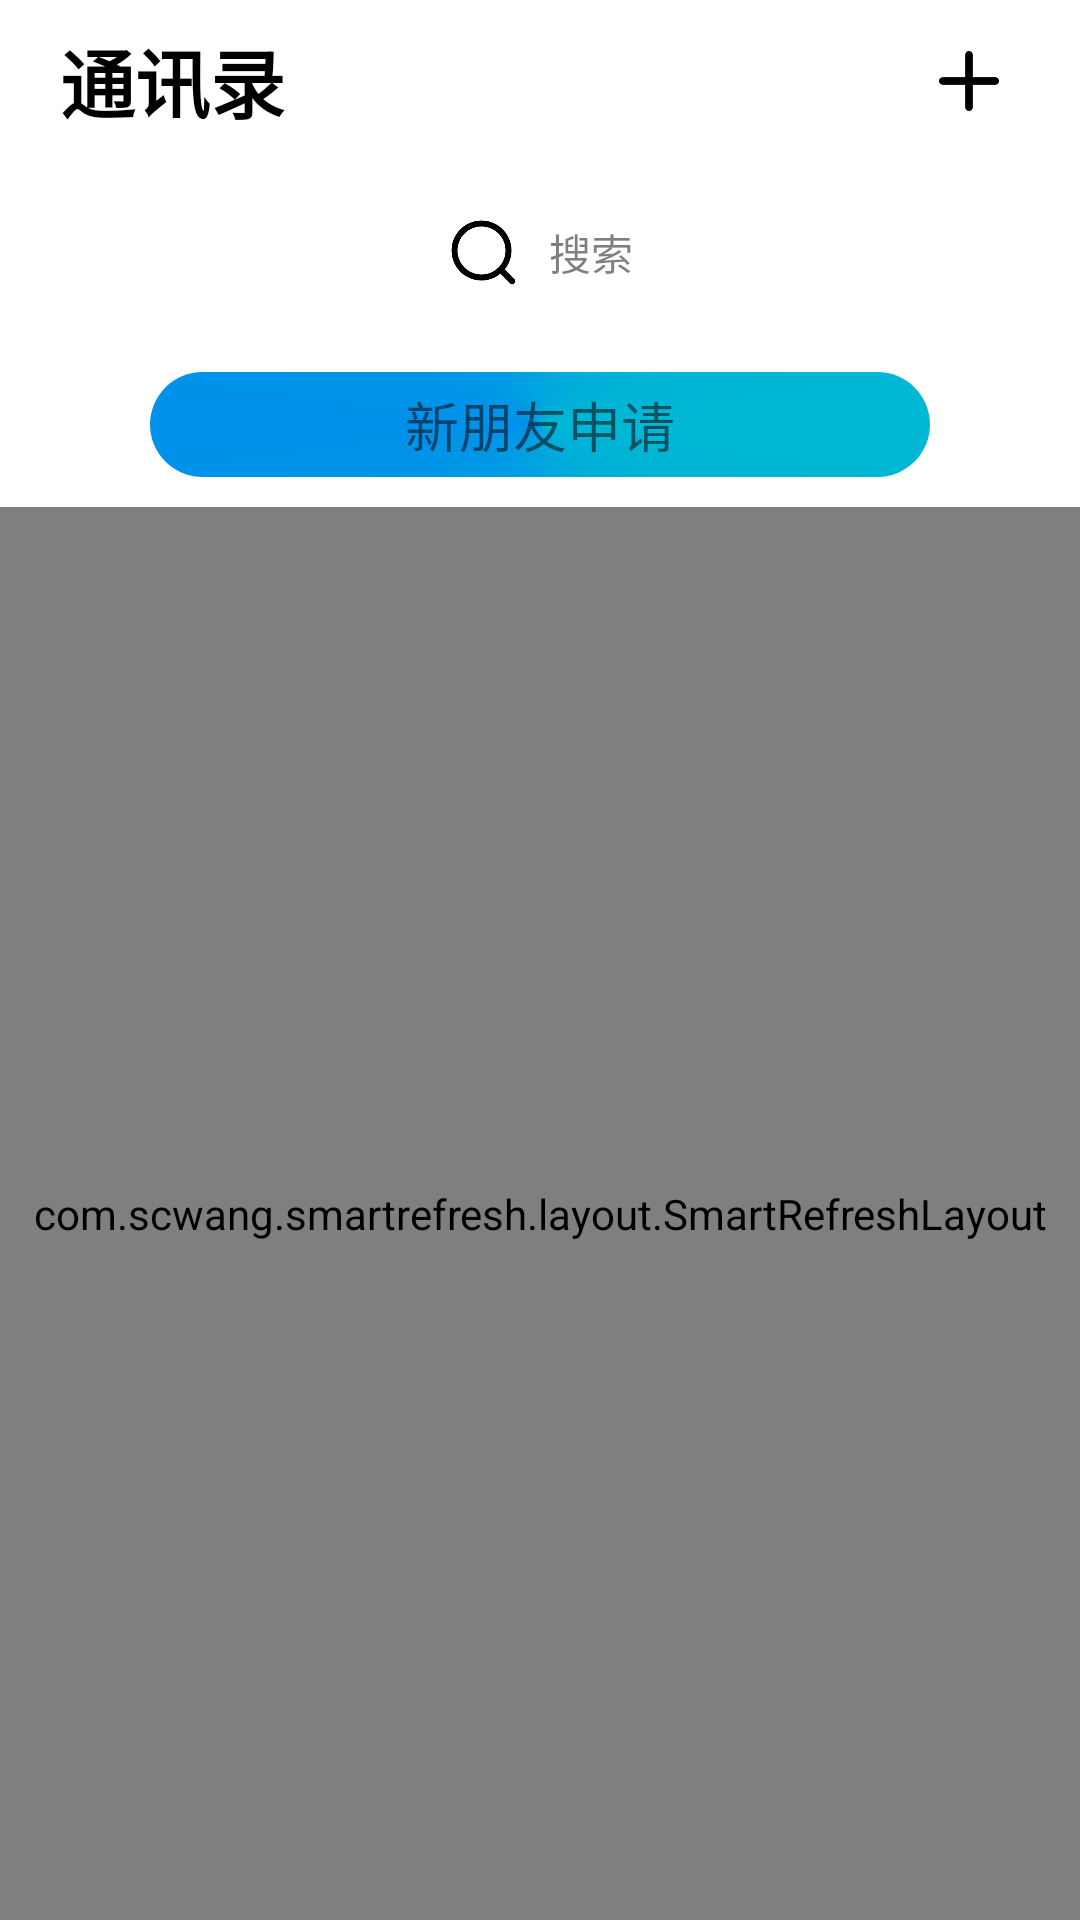

Screen size 1080px x 1920px. Icon name, then its box in pixels as (x1=x1, y1=y1, x2=x2, y2=y2):
addressbook add: (x1=939, y1=51, x2=999, y2=111)
search: (x1=451, y1=220, x2=516, y2=285)
